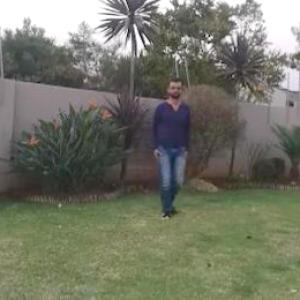follow: (151, 81, 188, 210)
